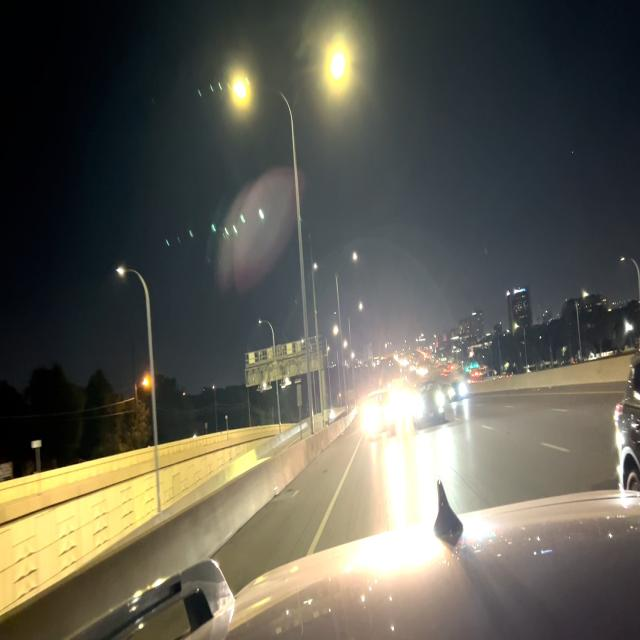back-of-sign: (244, 337, 320, 387)
